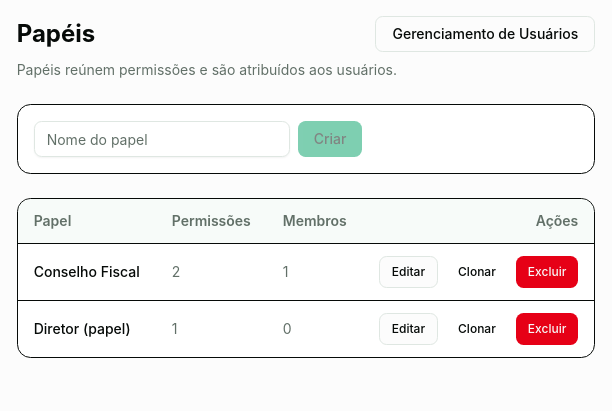
Test: RolesAdminPage › shows a friendly message when the API answers 403
Expected: the text "Conselho Fiscal" is shown, top-left (34, 262), bottom-right (140, 282)
Step 1. Type "Zeladoria" into the field labelled "Nome do papel" → coordinates (162, 139), box top-left (34, 121), bottom-right (290, 157)
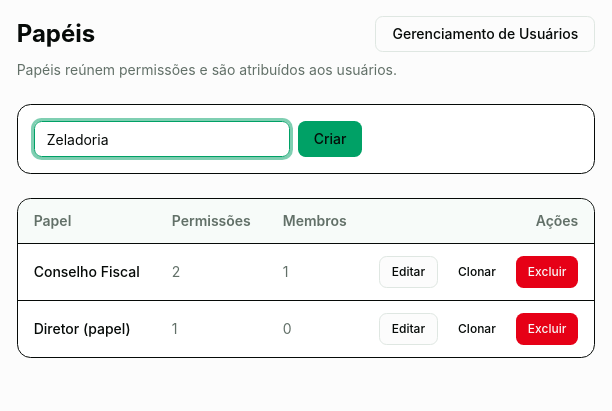
Step 2. Click the button "Criar" → coordinates (330, 139), box top-left (298, 121), bottom-right (362, 157)
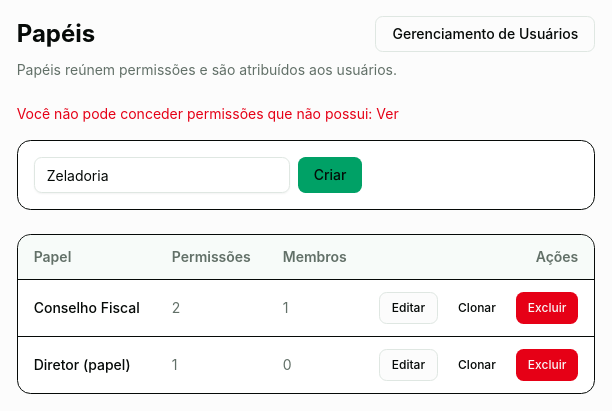
Expected: the message shows "Ver", top-left (17, 105), bottom-right (399, 122)
